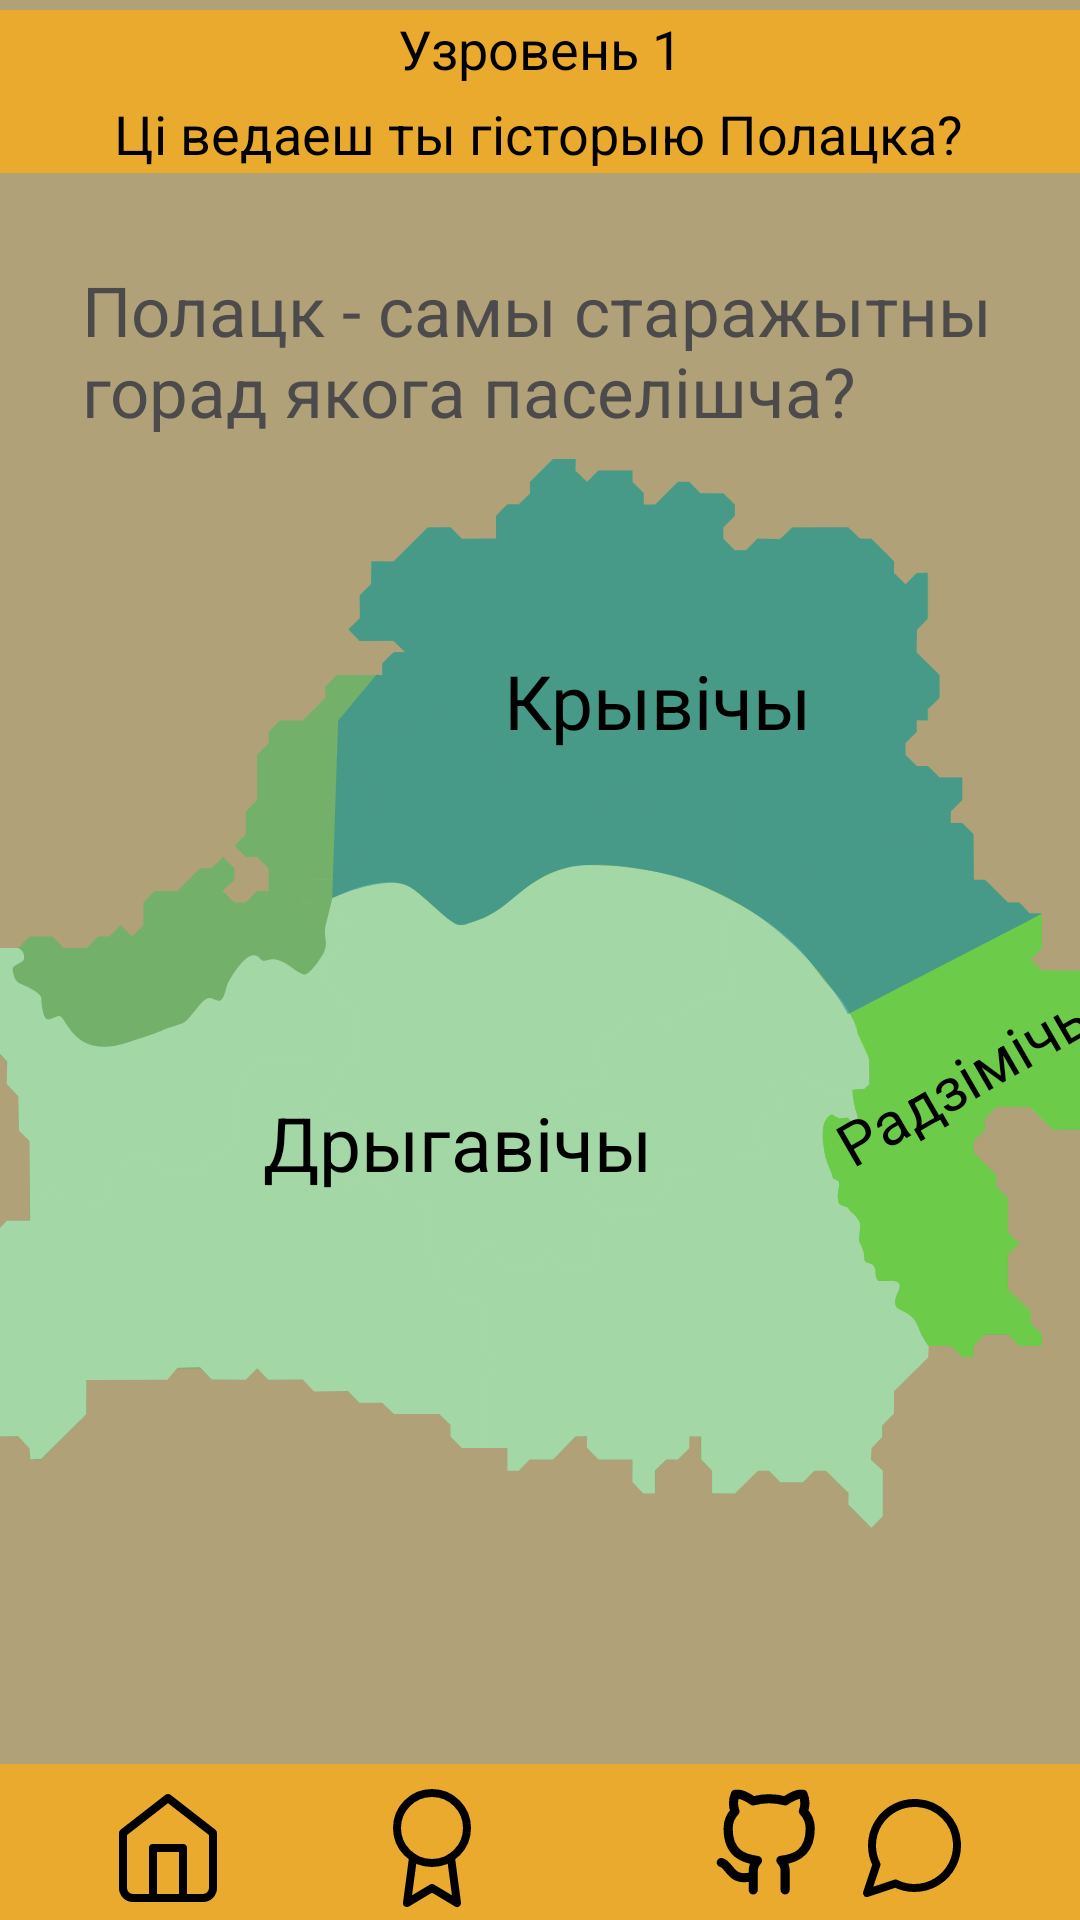

Icons on this 1080*1920 Android screen, each with its box as (x1, y1, x2, y2):
award: (393, 1789, 471, 1908)
home: (119, 1794, 217, 1902)
message circle: (863, 1799, 961, 1897)
